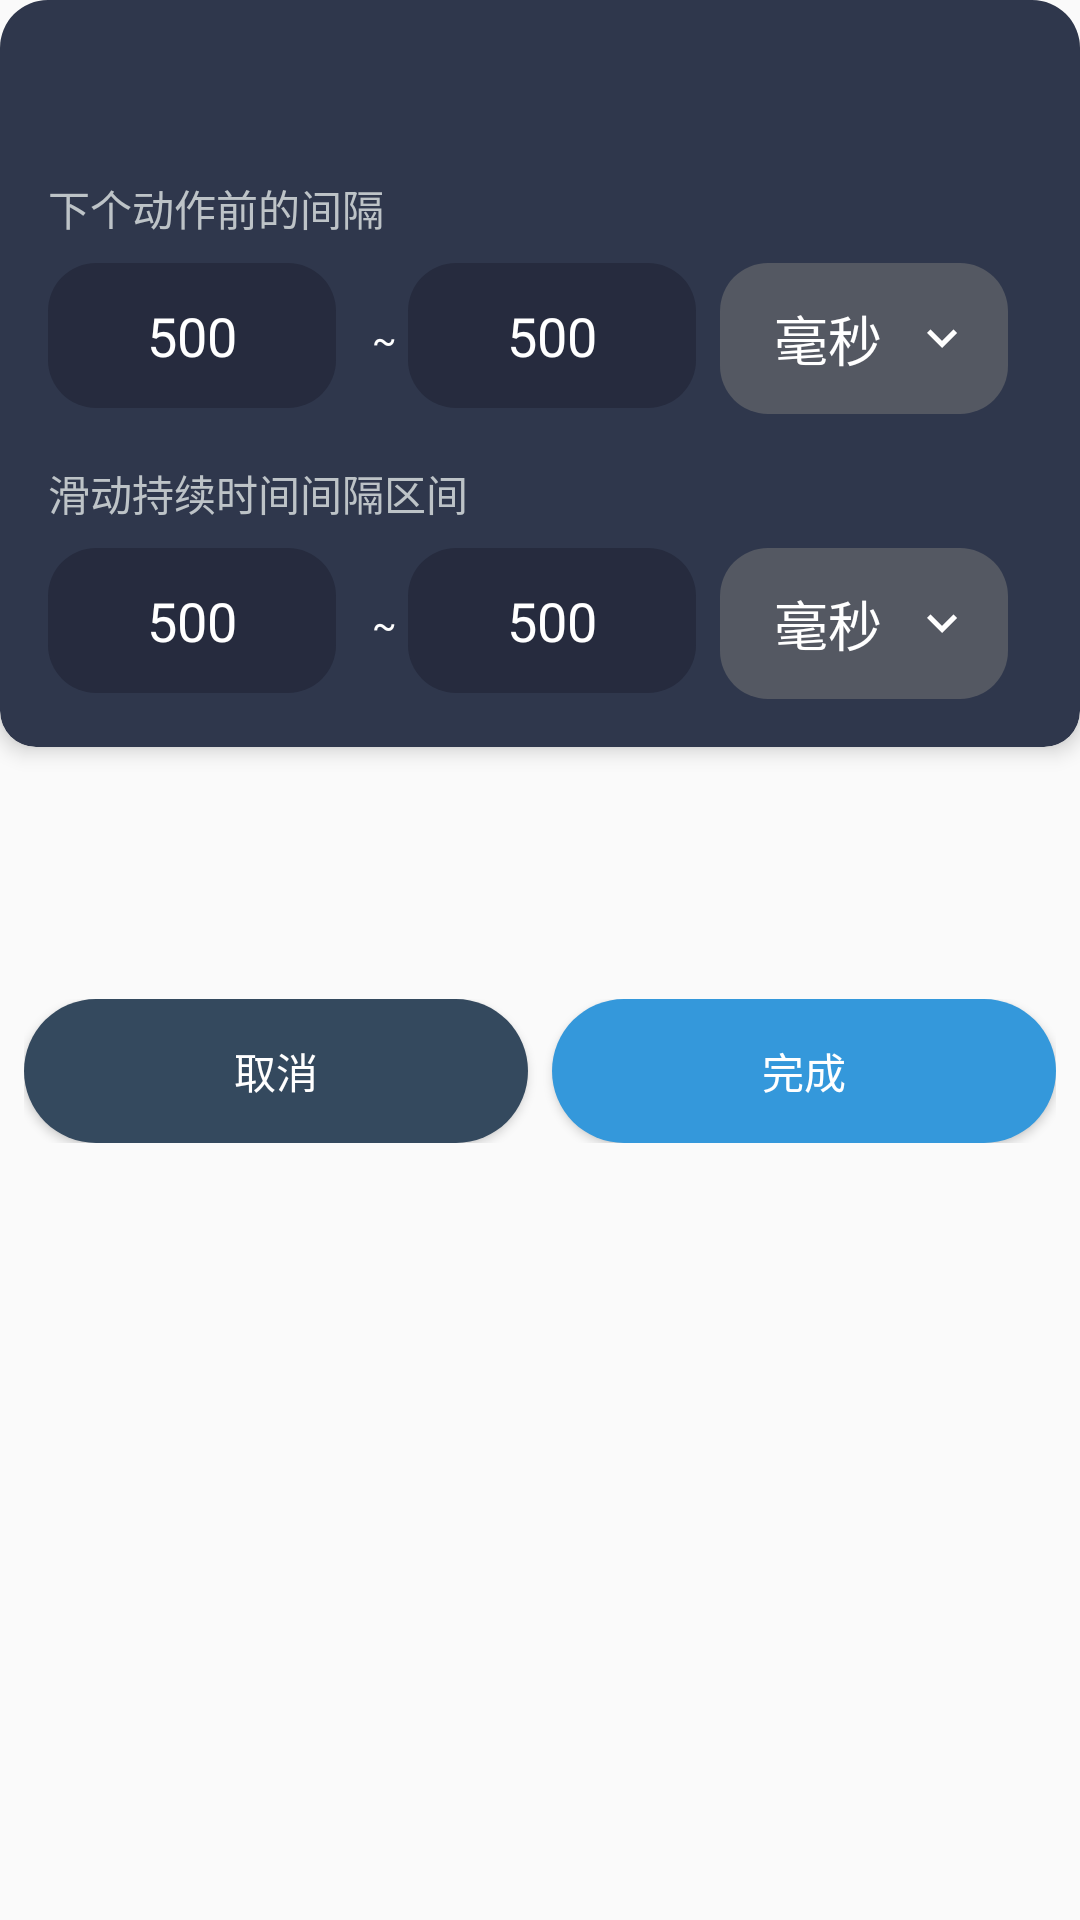

Named icons in this screenshot (1080w x 1920h) and their centers, point (x, y):
arrow down: point (942, 338), point (942, 623)
